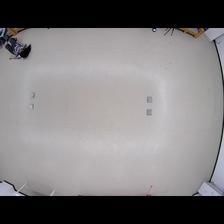fall: (2, 36, 31, 62)
